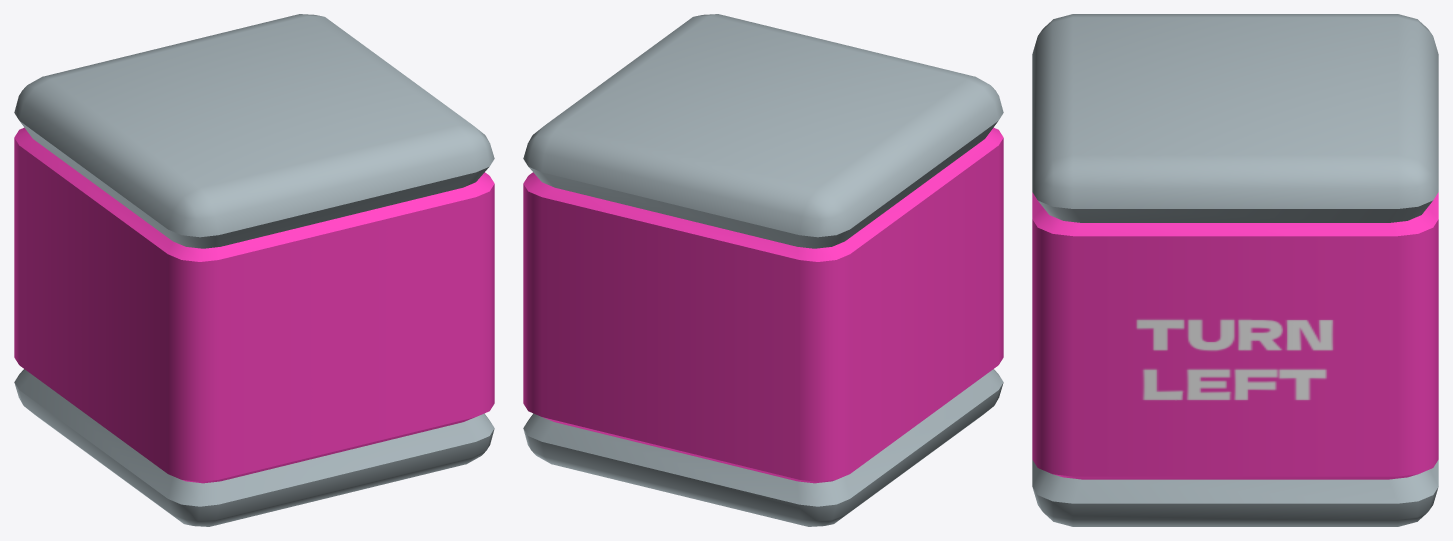
Rendered from ActionBlock_Left.fbx.
The picture shows the model from 3 angles, left to right: view 1: azimuth 30°, elevation 25°; view 2: azimuth 150°, elevation 25°; view 3: azimuth 270°, elevation 25°; orthographic projection. The views are drawn at different scales.
Parts seen in each view (by area): view 1: ActionBlock_Left; view 2: ActionBlock_Left; view 3: ActionBlock_Left.
Part boxes in pixels (x1,y1,x2,y2): ActionBlock_Left: (14, 14, 494, 526); ActionBlock_Left: (523, 14, 1003, 526); ActionBlock_Left: (1032, 14, 1438, 526).
Size of the model in its own units: 100 by 100 by 100.
1 material, 1 textured.
